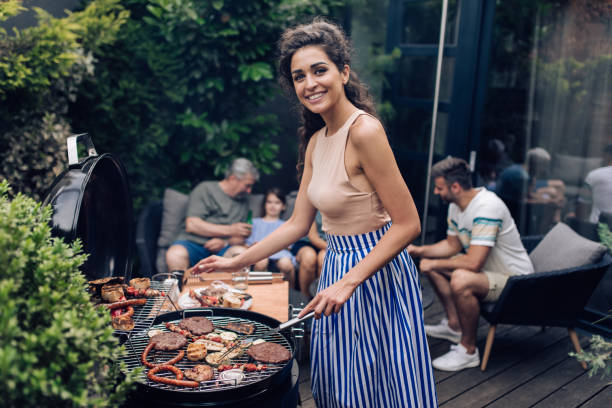without mask: (284, 45, 352, 118), (222, 163, 255, 201), (263, 184, 291, 218), (433, 170, 461, 204)
